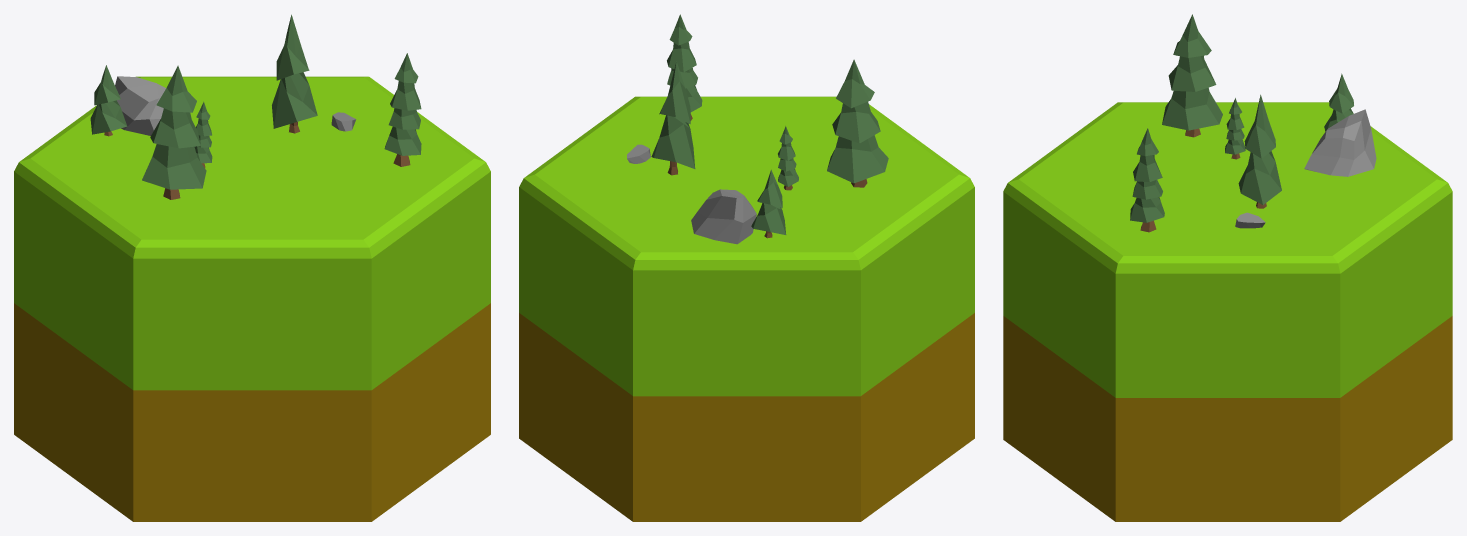
File: Hex Tile Grass 12.glb
3 views of the same model, side by side, from view 1: azimuth 30°, elevation 25°; view 2: azimuth 150°, elevation 25°; view 3: azimuth 270°, elevation 25° (orthographic). The views are drawn at different scales.
Visible parts, largest first — view 1: Hex.Tile.Grass.Variant02; view 2: Hex.Tile.Grass.Variant02; view 3: Hex.Tile.Grass.Variant02.
Boxes of the visible parts, x1,y1,x2,y2 form: Hex.Tile.Grass.Variant02: [14, 14, 490, 521]; Hex.Tile.Grass.Variant02: [519, 14, 974, 521]; Hex.Tile.Grass.Variant02: [1003, 14, 1452, 521].
Size of the model in its own units: 1.73 by 1.88 by 2.
